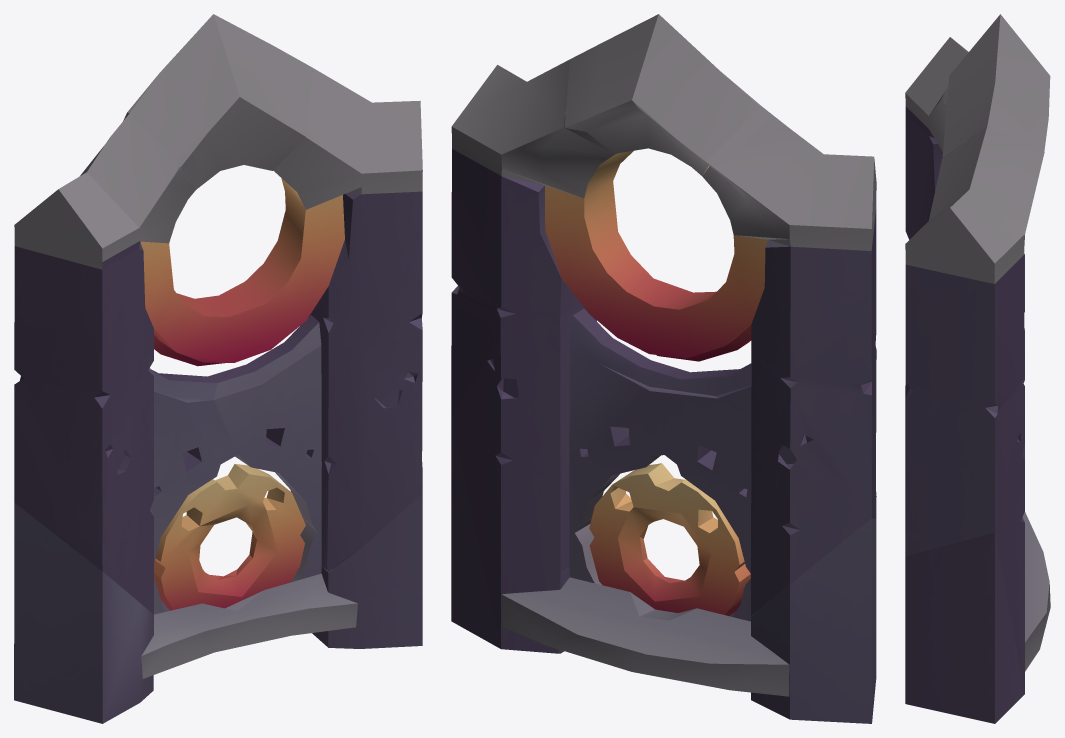
File: monument.002.fbx
The picture shows the model from 3 angles, left to right: view 1: azimuth 30°, elevation 25°; view 2: azimuth 150°, elevation 25°; view 3: azimuth 270°, elevation 25°; orthographic projection. The views are drawn at different scales.
Parts seen in each view (by area): view 1: monument.002; view 2: monument.002; view 3: monument.002.
Part boxes in pixels (box(x1,y1,x2,y2)): monument.002: box(14, 14, 422, 723); monument.002: box(451, 14, 876, 723); monument.002: box(905, 14, 1050, 723).
Size of the model in its own units: 765 by 1149 by 246.
